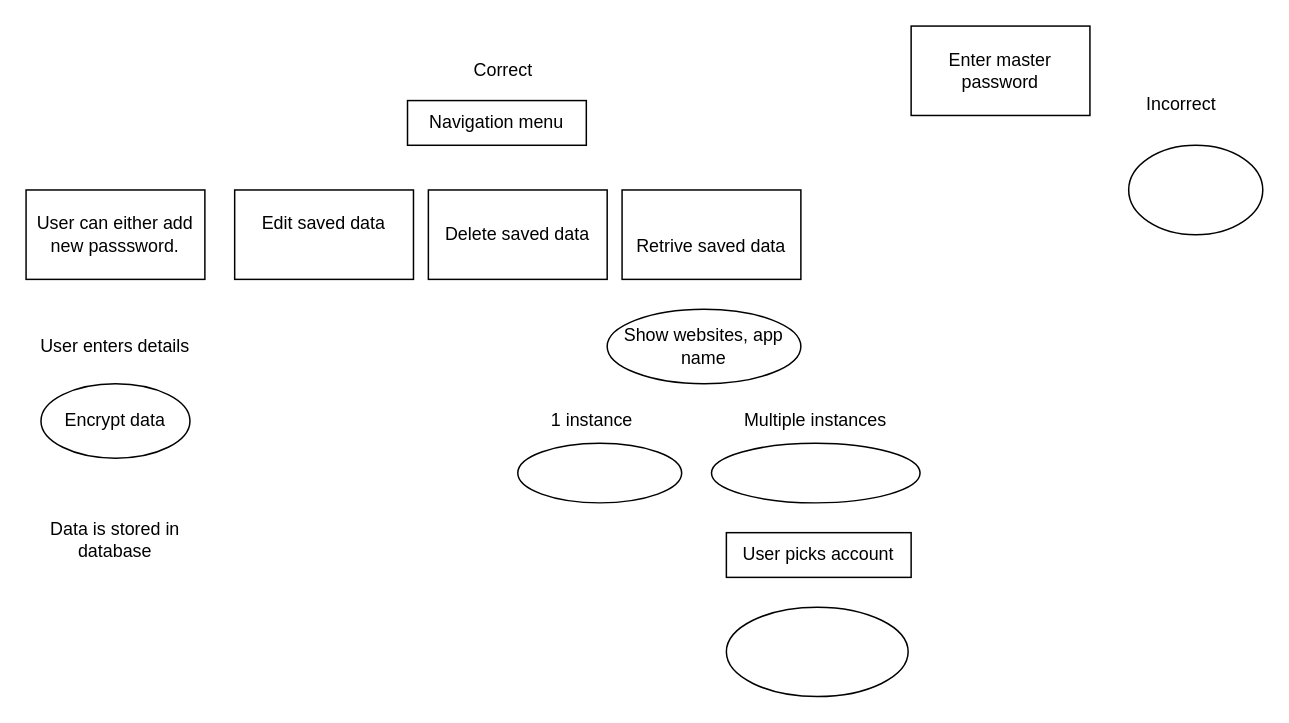
Some shapes in this 1289 by 723 pixel diagram are drawn without their labels. Each missing label, with the box of its shape:
Display only 1 details: (516, 442, 682, 503)
Display that account details: (725, 606, 908, 697)
Set password enter limit: (1127, 144, 1263, 235)
Show different accounts: (710, 442, 920, 503)
